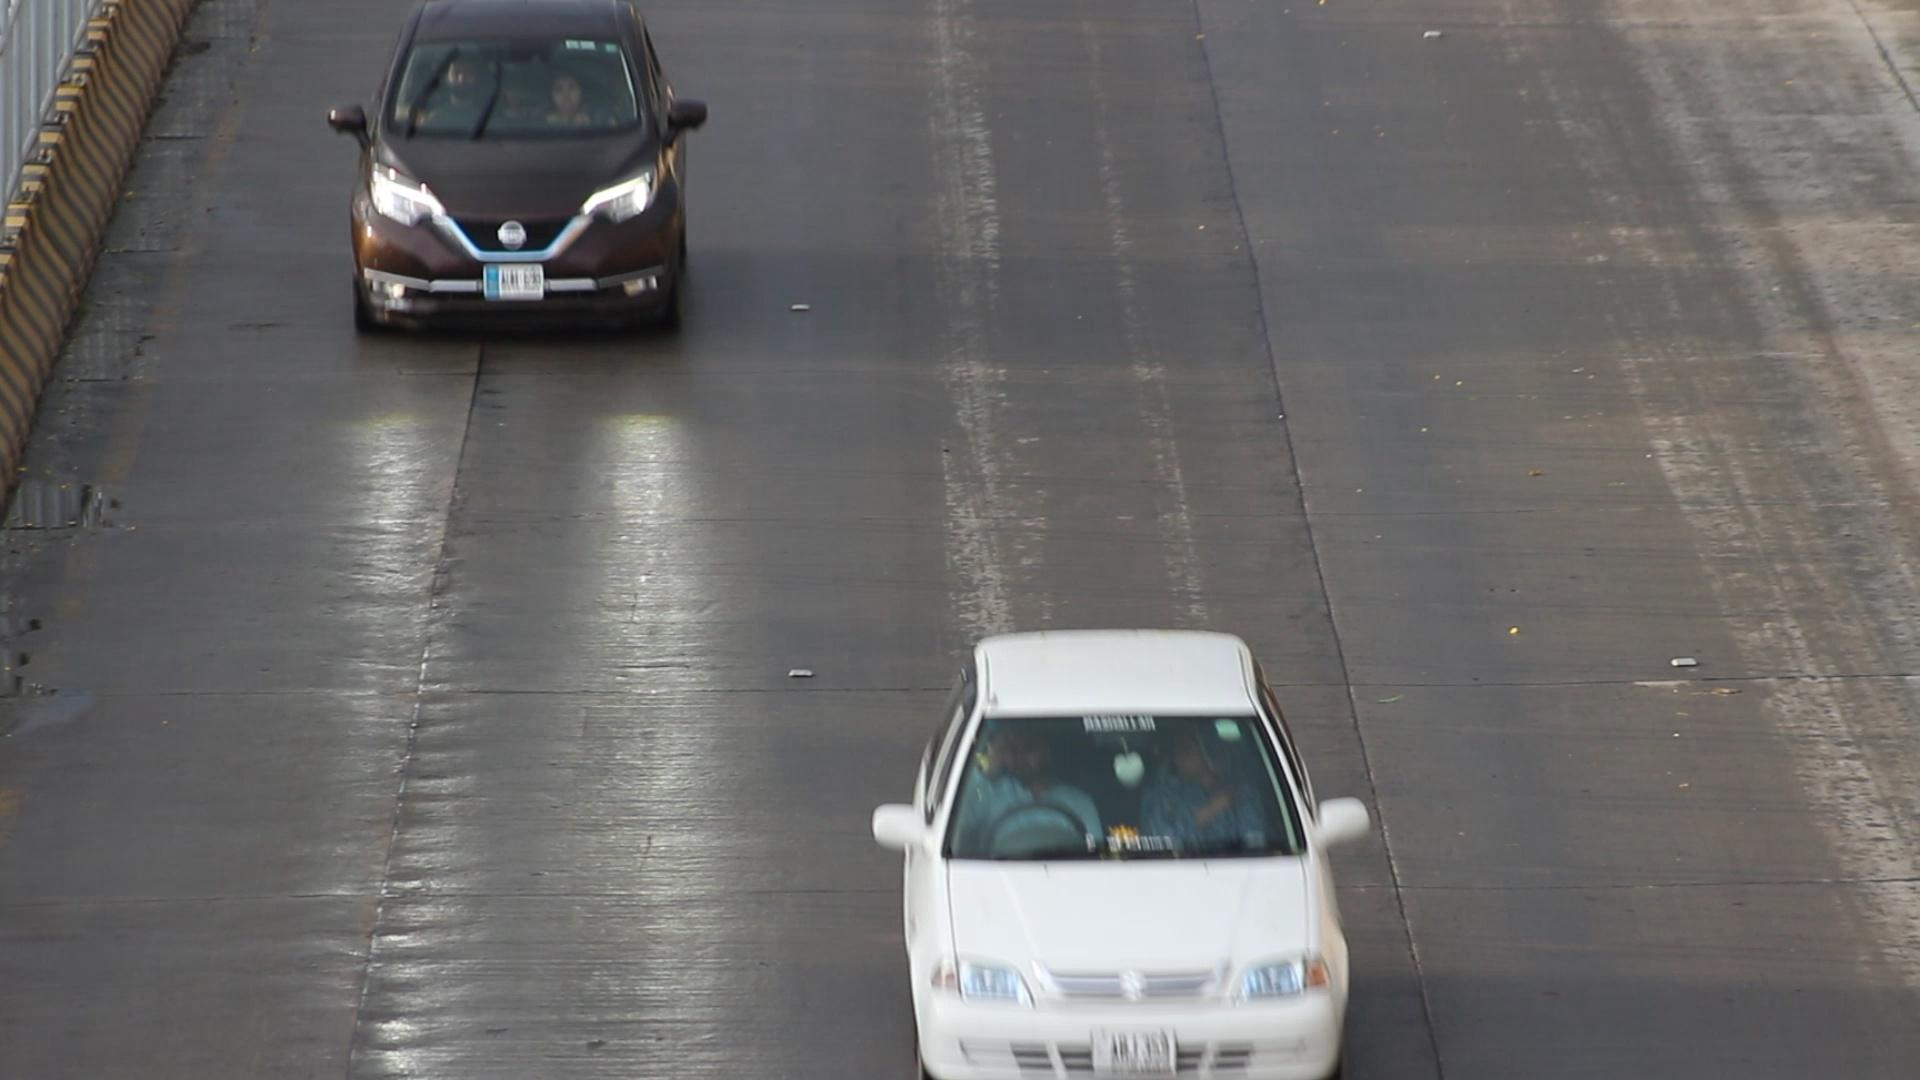windshield: (940, 703, 1313, 853), (381, 30, 654, 140)
